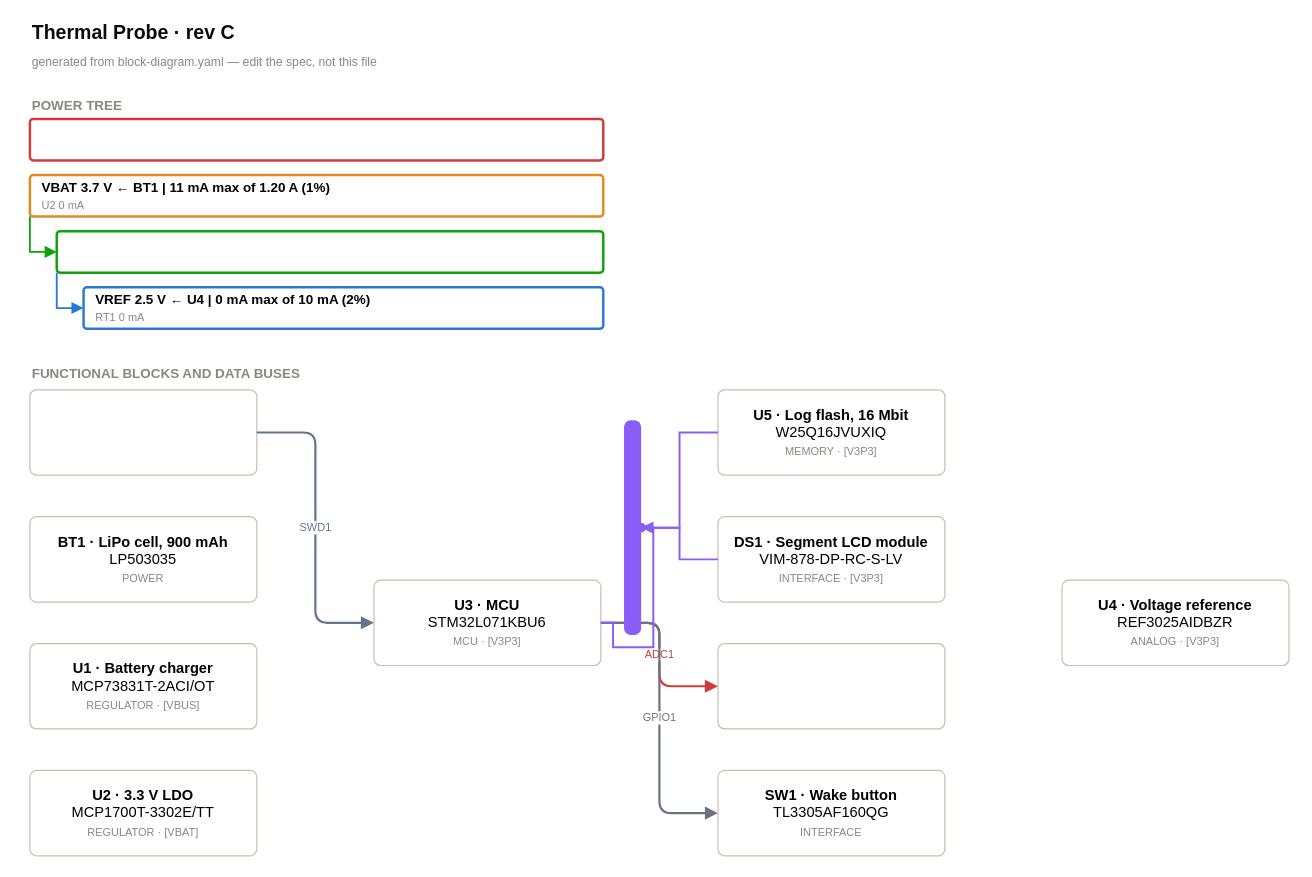
Some shapes in this 1312 by 877 pixel diagram are drawn without their labels. The centre of each missing label's shape, as x and y in pixels:
"J1 · USB-C receptacle TYPE-C-31-M-12 CONNECTOR" goes at point 143,432.
"RT1 · Probe thermistor, NTC 10k NTCLE100E3103JB0 SENSOR · [VREF]" goes at point 831,685.
"SPI1 · SPI · 8 MHz, two chip selects. Flash and LCD share the bus." goes at point 631,527.
"V3P3 3.3 V ← U2 | 12 mA max of 250 mA (5%) U3 8 mA U5 4 mA U4 0 mA DS1 0 mA" goes at point 329,251.
"VBUS 5.0 V ← J1 | 450 mA max of 500 mA (90%) ! tight U1 450 mA" goes at point 316,139.
